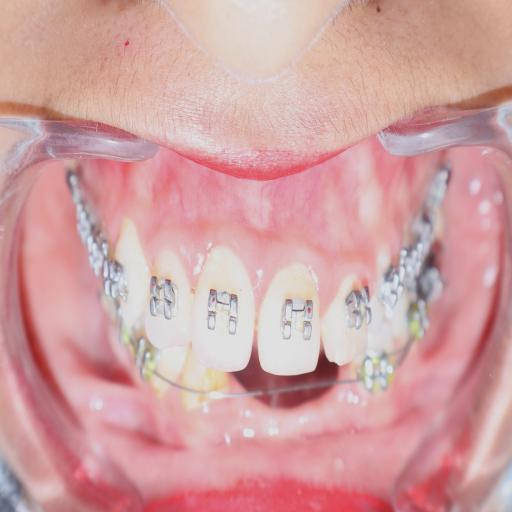correct_brace: (204, 277, 244, 341), (278, 289, 314, 343), (341, 280, 372, 336), (148, 274, 178, 322)
incorrect_brace: (319, 269, 374, 368), (142, 252, 192, 352)
